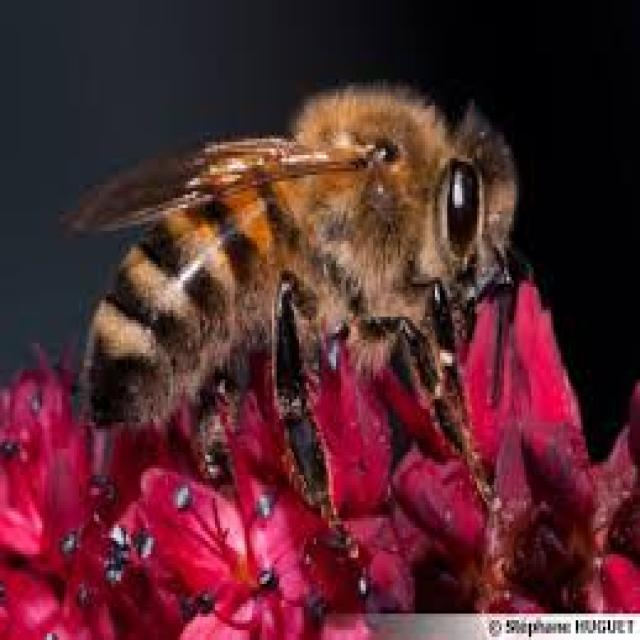Bees: (69, 82, 521, 534)
